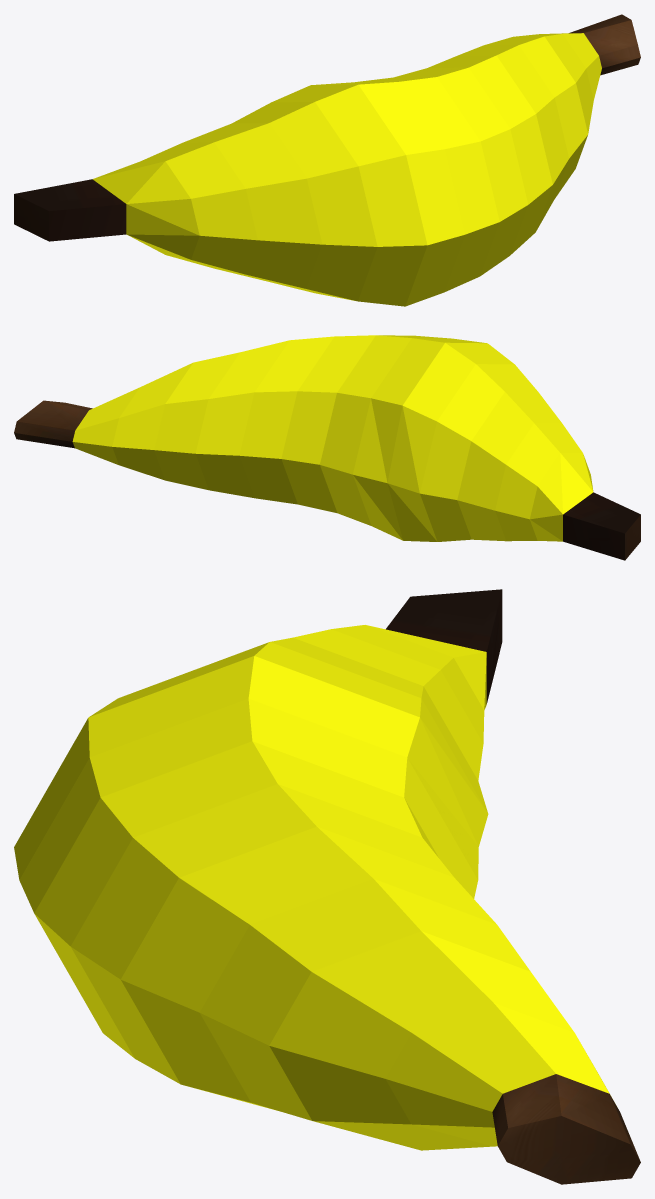
The model's file is Banana.FBX.
The picture shows the model from 3 angles, top to bottom: view 1: azimuth 30°, elevation 25°; view 2: azimuth 150°, elevation 25°; view 3: azimuth 270°, elevation 25°; orthographic projection. The views are drawn at different scales.
Visible parts, largest first — view 1: Box001; view 2: Box001; view 3: Box001.
Part boxes in pixels (left/top/right/bottom): Box001: left=14, top=14, right=640, bottom=306; Box001: left=14, top=335, right=640, bottom=560; Box001: left=14, top=589, right=640, bottom=1184.
Bounding box in the file's own units: 1.32 × 0.4174 × 0.6406.
1 material, 1 textured.
